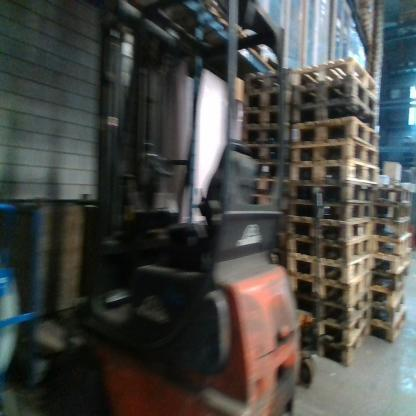pallets: (243, 60, 401, 375)
